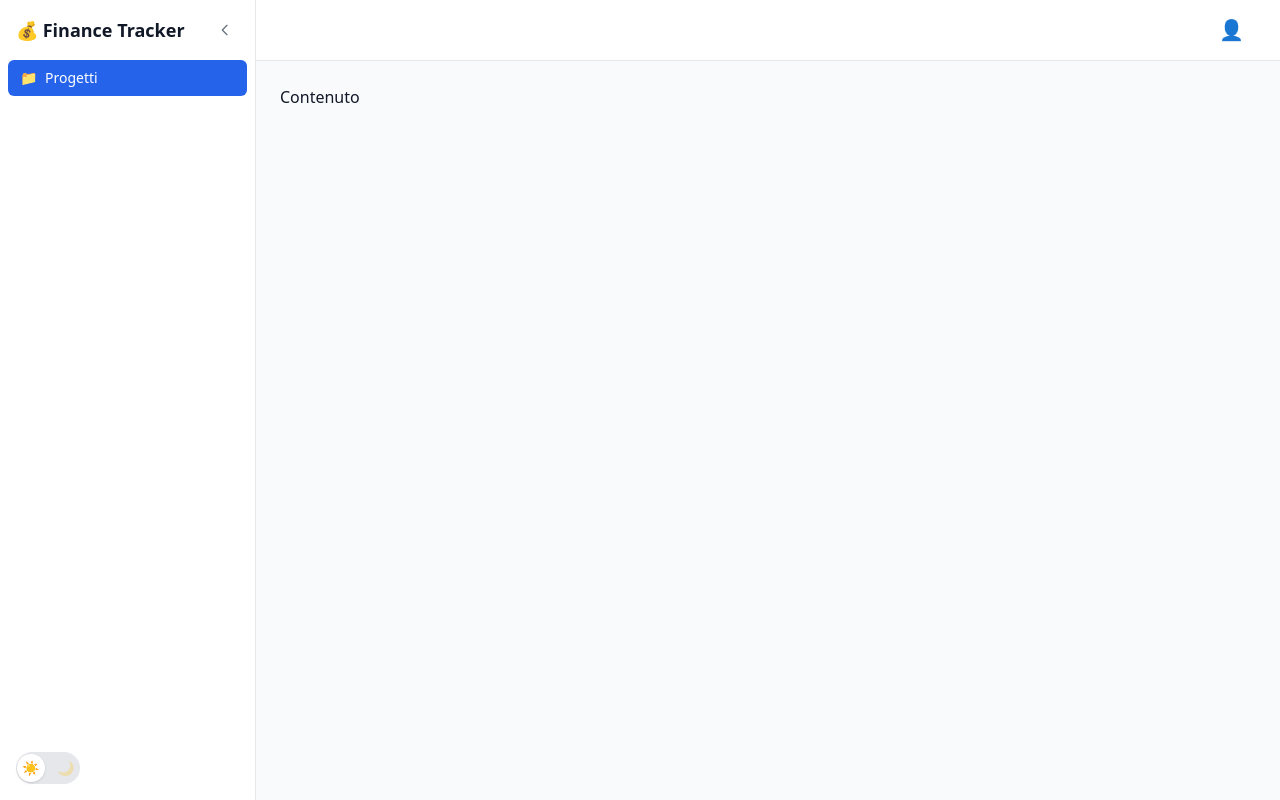
Test: Layout › opens the change password modal from the user menu
The width and height of the screenshot is (1280, 800).
Click the button named "Menu utente".
click(1232, 30)  # box left=1207, top=12, right=1256, bottom=48
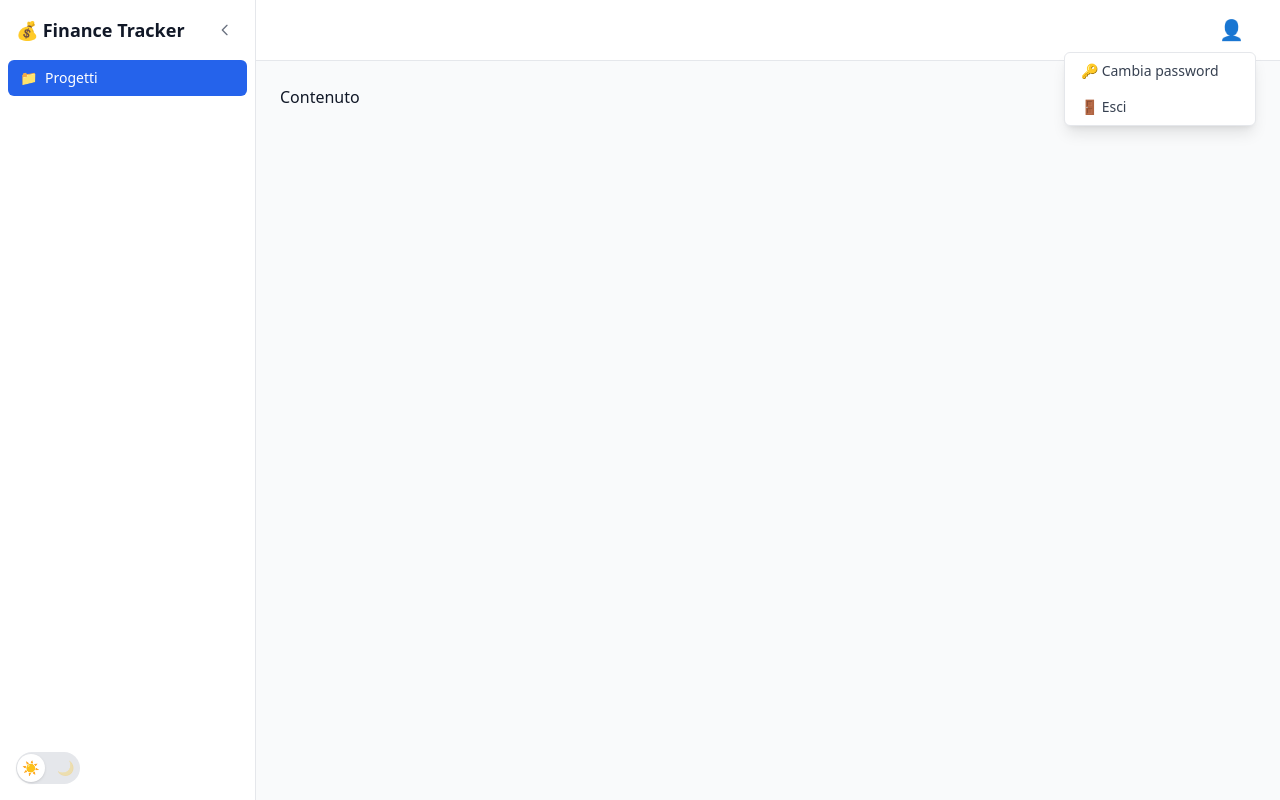
Click the button "🔑 Cambia password".
click(1160, 71)  # box left=1065, top=53, right=1255, bottom=89
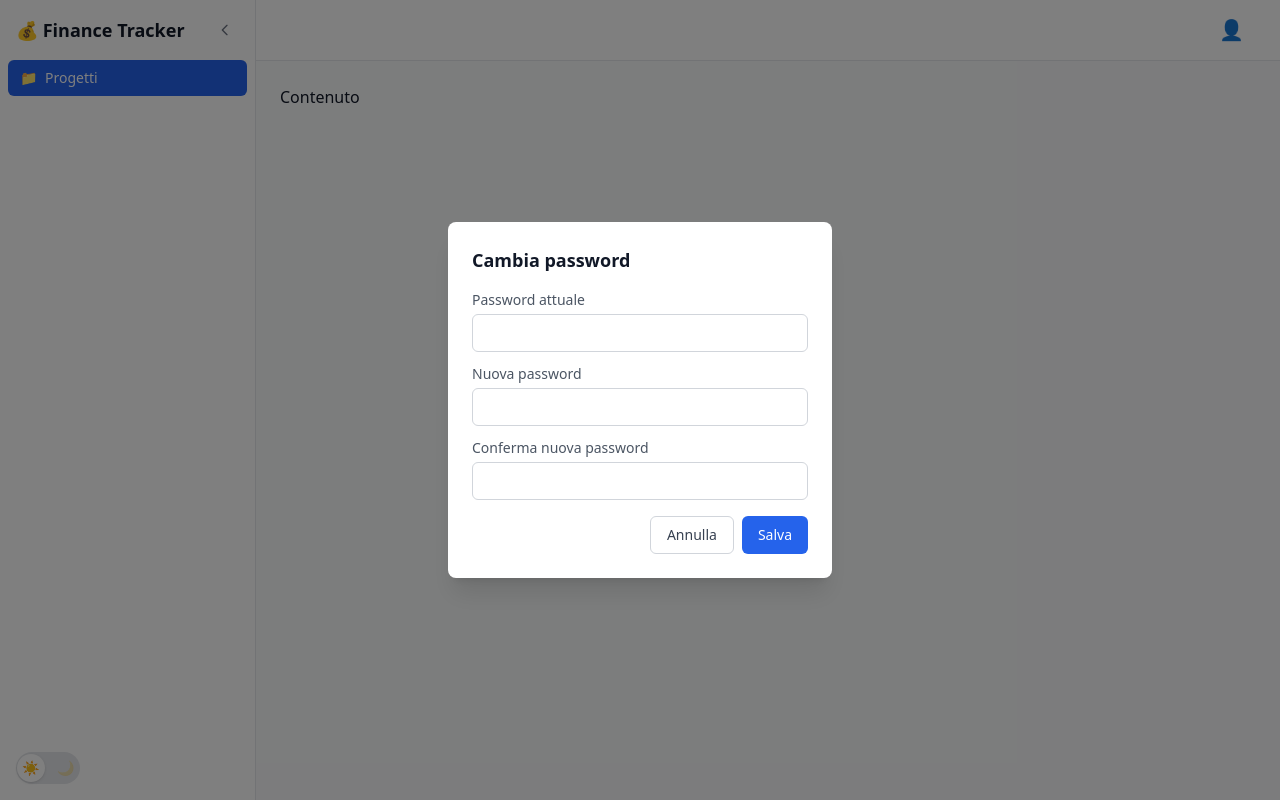
Now the password field labelled "Password attuale" is shown, box left=472, top=314, right=808, bottom=352
